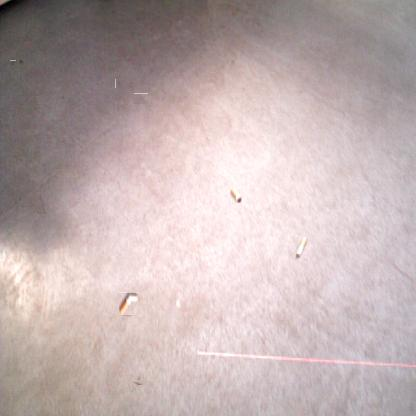dirty: (119, 292, 139, 315), (294, 237, 308, 259), (230, 188, 242, 203)
mark: (391, 261, 413, 281), (37, 192, 47, 214), (135, 93, 148, 105), (134, 378, 144, 386), (115, 78, 122, 88), (59, 92, 65, 100), (229, 57, 235, 65), (10, 60, 16, 67), (17, 59, 23, 65)
